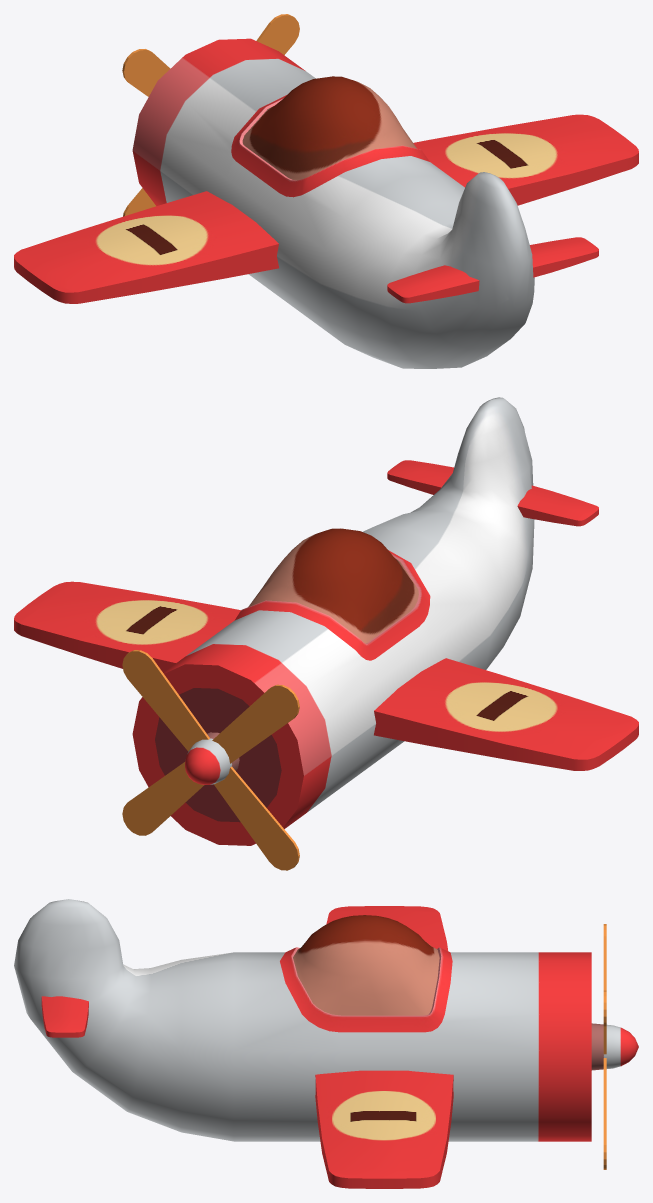
Rendered from feiji.FBX.
3 views of the same model, one above another, from view 1: azimuth 30°, elevation 25°; view 2: azimuth 150°, elevation 25°; view 3: azimuth 270°, elevation 25° (orthographic). The views are drawn at different scales.
Visible parts, largest first — view 1: feiji; view 2: feiji; view 3: feiji.
Part boxes in pixels (<box>): feiji: <box>14,14,638,368</box>; feiji: <box>14,397,638,870</box>; feiji: <box>14,899,638,1188</box>.
Bounding box in the file's own units: 16.1 × 6.5 × 15.6.
